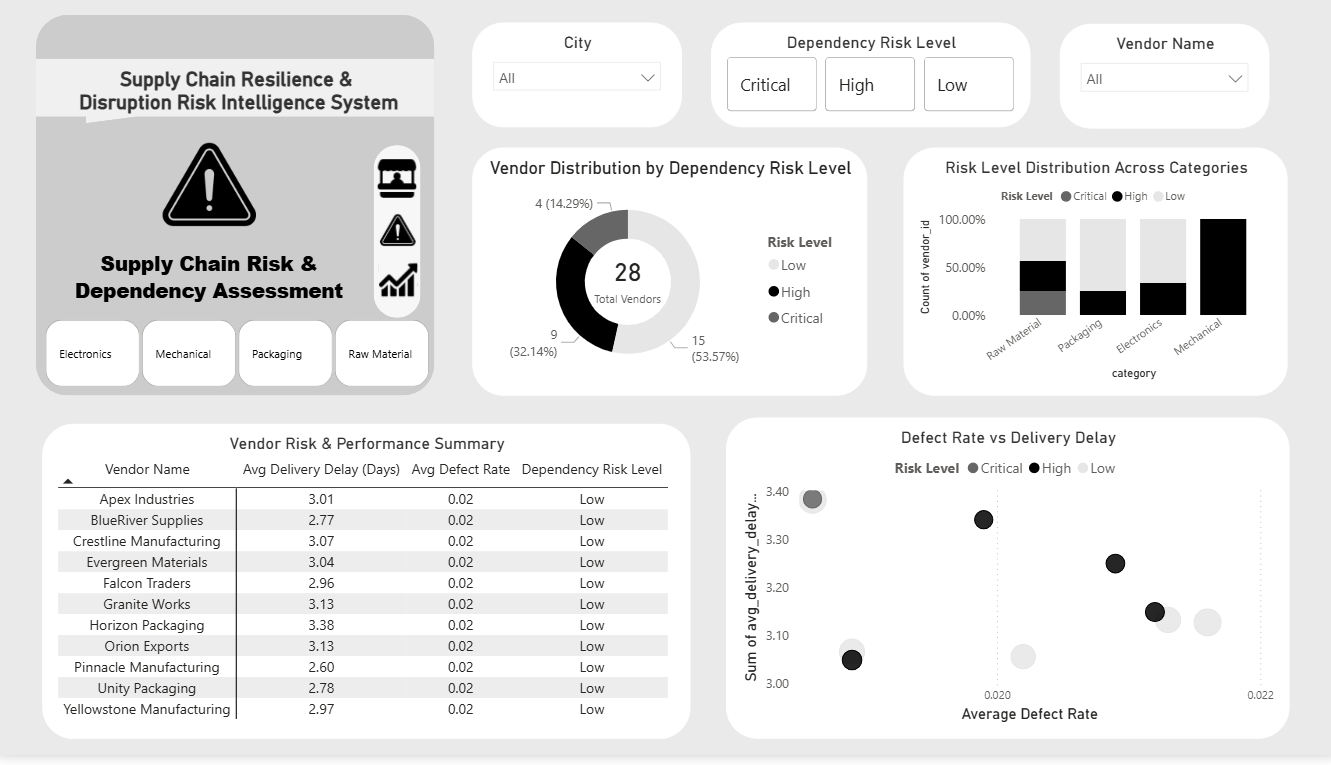

Layout of this report page (visuals, bound fields, positions):
{"tool":"powerbi","page":{"name":"Risk Analysis","canvas":[1280,720],"ordinal":1},"visuals":[{"type":"shape","box":[38.6,14.3,380,362.9],"z":0},{"type":"slicer","title":"Vendor Name","fields":{"Values":["procurement_risk_db vendor_dependency_risk.vendor_name"]},"box":[1015.2,22.7,200,100],"z":1000},{"type":"advancedSlicerVisual","fields":{"Values":["procurement_risk_db vendor_dependency_risk.Dependency Risk (Short)"]},"box":[682.6,22,304.5,100],"z":2000},{"type":"donutChart","title":"Vendor Distribution by Dependency Risk Level","fields":{"Category":["procurement_risk_db vendor_dependency_risk.Dependency Risk (Short)"],"Y":["CountNonNull(procurement_risk_db vendor_dependency_risk.vendor_id)"]},"box":[453.9,140.9,376.7,236.7],"z":3000},{"type":"hundredPercentStackedColumnChart","title":"Risk Level Distribution Across Categories","fields":{"Y":["CountNonNull(procurement_risk_db vendor_dependency_risk.vendor_id)"],"Category":["procurement_risk_db vendor_dependency_risk.category"],"Series":["procurement_risk_db vendor_dependency_risk.Dependency Risk (Short)"]},"box":[865.5,140.9,366.7,236.7],"z":4000},{"type":"pivotTable","title":"Vendor Risk & Performance Summary","fields":{"Rows":["procurement_risk_db vendor_dependency_risk.vendor_name"],"Values":["Avg(procurement_risk_db vendor_performance_summary.avg_delivery_delay_days)","Avg(procurement_risk_db vendor_performance_summary.defect_rate)","Min(procurement_risk_db vendor_dependency_risk.Dependency Risk (Short))"]},"box":[44.2,403.7,618.4,300.6],"z":5000},{"type":"shape","box":[38.6,55.7,380,61.4],"z":6000},{"type":"textbox","box":[41.4,60,380,61.4],"z":7000},{"type":"advancedSlicerVisual","fields":{"Values":["procurement_risk_db vendor_dependency_risk.category"]},"box":[25.8,304.5,410.6,66.7],"z":8000},{"type":"shape","box":[360,138.3,45,165],"z":9000},{"type":"actionButton","box":[360.9,196.2,43.9,45.3],"z":10000},{"type":"actionButton","box":[361.7,244.5,45,45],"z":11000},{"type":"actionButton","box":[360,147.9,45,45],"z":12000},{"type":"scatterChart","title":"Defect Rate vs Delivery Delay","fields":{"X":["All_Measures.Average Defect Rate"],"Y":["Sum(procurement_risk_db vendor_performance_summary.avg_delivery_delay_days)"],"Size":["All_Measures.Vendor Dependency %"],"Category":["procurement_risk_db vendor_dependency_risk.vendor_name"],"Series":["procurement_risk_db vendor_dependency_risk.Dependency Risk (Short)"]},"box":[696.5,398.7,537.5,306.1],"z":13000},{"type":"slicer","title":"City","fields":{"Values":["procurement_risk_db vendor_performance_summary.city"]},"box":[454.5,21.2,200,100],"z":14000},{"type":"card","fields":{"Values":["All_Measures.Total Vendors"]},"box":[521.4,223.7,163.3,82.3],"z":15000},{"type":"textbox","box":[66.8,232.7,272.7,66.8],"z":16000},{"type":"image","box":[138,129.1,130.2,94.6],"z":17000}]}

Visuals, with their boxes in screenshot pixels (x1, y1, x2, y2), scaled from the page's 1280x720 canvas onto the 1331x765 screenshot:
shape: {"left": 40, "top": 15, "right": 435, "bottom": 401}
"Vendor Name" slicer: {"left": 1056, "top": 24, "right": 1264, "bottom": 130}
advancedSlicerVisual - procurement_risk_db vendor_dependency_risk.Dependency Risk (Short): {"left": 710, "top": 23, "right": 1026, "bottom": 130}
"Vendor Distribution by Dependency Risk Level" donutChart: {"left": 472, "top": 150, "right": 864, "bottom": 401}
"Risk Level Distribution Across Categories" hundredPercentStackedColumnChart: {"left": 900, "top": 150, "right": 1281, "bottom": 401}
"Vendor Risk & Performance Summary" pivotTable: {"left": 46, "top": 429, "right": 689, "bottom": 748}
shape: {"left": 40, "top": 59, "right": 435, "bottom": 124}
textbox: {"left": 43, "top": 64, "right": 438, "bottom": 129}
advancedSlicerVisual - procurement_risk_db vendor_dependency_risk.category: {"left": 27, "top": 324, "right": 454, "bottom": 394}
shape: {"left": 374, "top": 147, "right": 421, "bottom": 322}
actionButton: {"left": 375, "top": 208, "right": 421, "bottom": 257}
actionButton: {"left": 376, "top": 260, "right": 423, "bottom": 308}
actionButton: {"left": 374, "top": 157, "right": 421, "bottom": 205}
"Defect Rate vs Delivery Delay" scatterChart: {"left": 724, "top": 424, "right": 1283, "bottom": 749}
"City" slicer: {"left": 473, "top": 23, "right": 681, "bottom": 129}
card - All_Measures.Total Vendors: {"left": 542, "top": 238, "right": 712, "bottom": 325}
textbox: {"left": 69, "top": 247, "right": 353, "bottom": 318}
image: {"left": 143, "top": 137, "right": 279, "bottom": 238}
